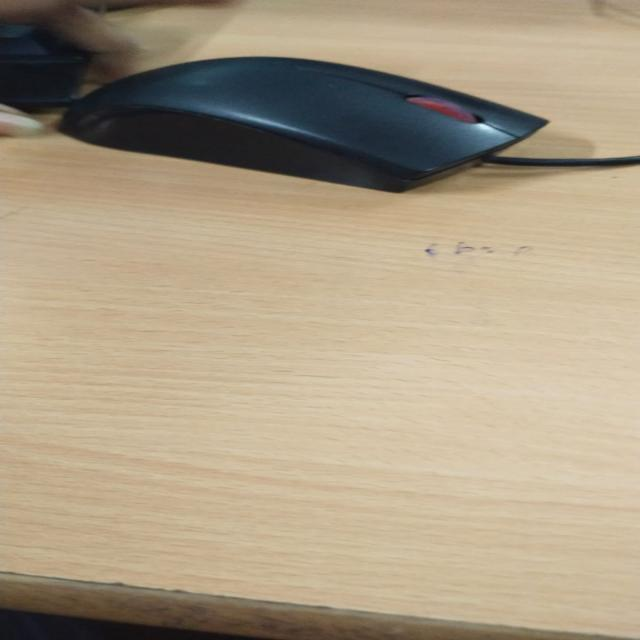Mouse: (81, 52, 532, 200)
